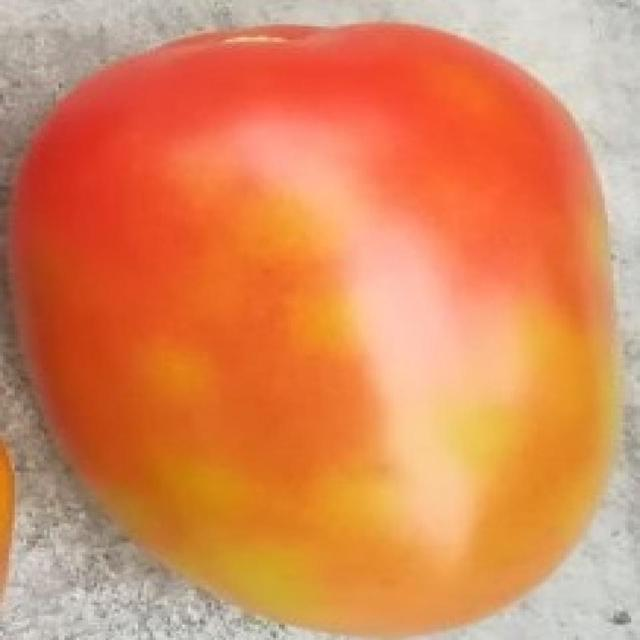Spotted wilt Virus Fruit: (40, 2, 50, 118)
